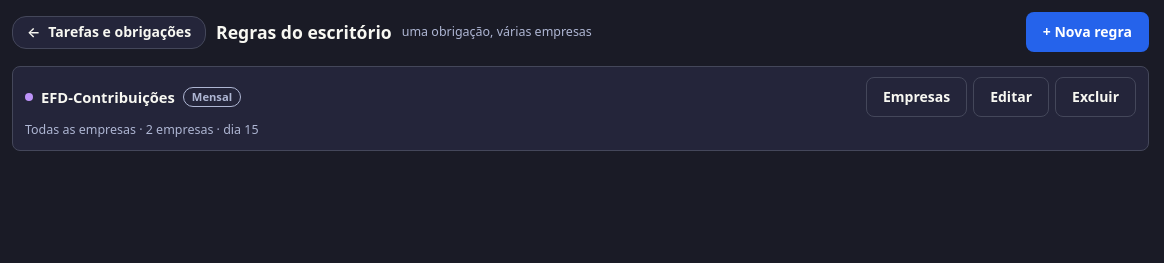
Test: tirar da regra — a pergunta › desvinculadas = 0 na resposta: o aviso diz que foi removida, não o contrário
Expected: the text "EFD-Contribuições" is shown, 41,86 -> 175,108
What coordinates should you click on to do the following:
click the button "Empresas"
I would click on:
 (917, 97)
Its box is 866,77 -> 967,117.
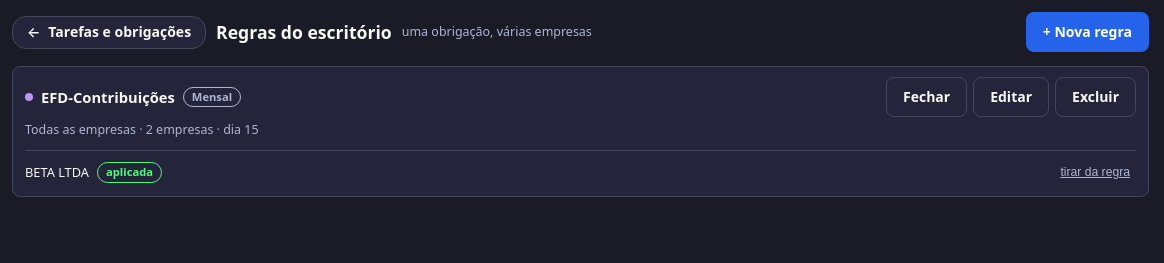
What coordinates should you click on to do the following:
click the button "tirar da regra"
I would click on:
 (1095, 172)
Its box is 1054,164 -> 1136,180.
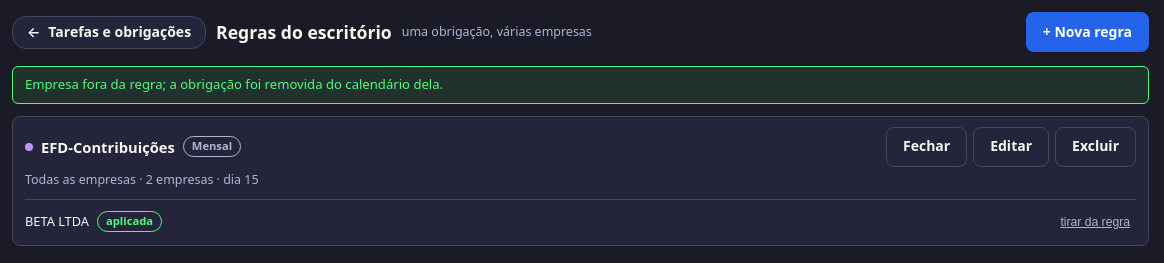
Expected: the text "foi removida do calendário dela" is shown, 25,75 -> 443,93
